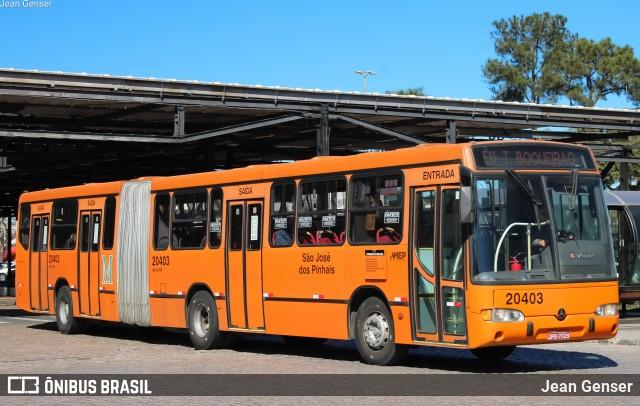TBOQUEIRAO: (499, 147, 579, 169)
